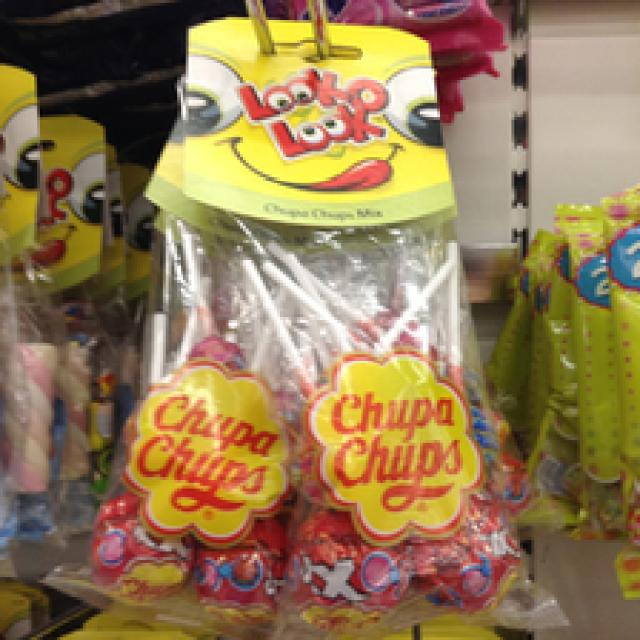groceries: (171, 20, 463, 597)
